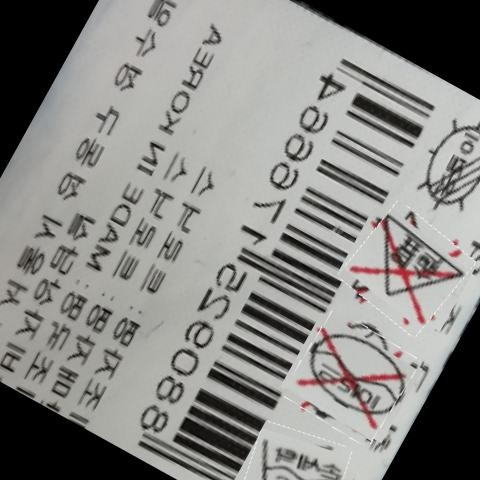DN_dry_clean: (308, 326, 404, 424)
hand_wash: (261, 433, 346, 480)
line_dry_in_shade: (421, 119, 479, 209)
non_chlorine_bleach: (368, 218, 462, 311)
